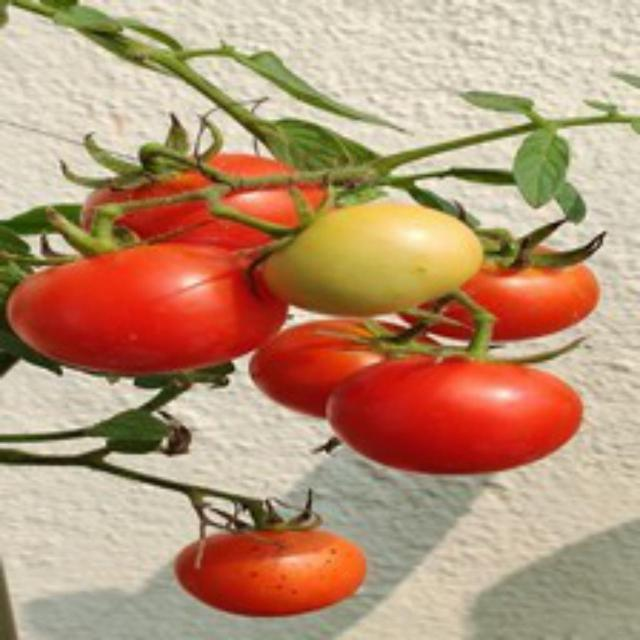tomato: (323, 350, 614, 486), (9, 240, 290, 377), (166, 520, 392, 623)
